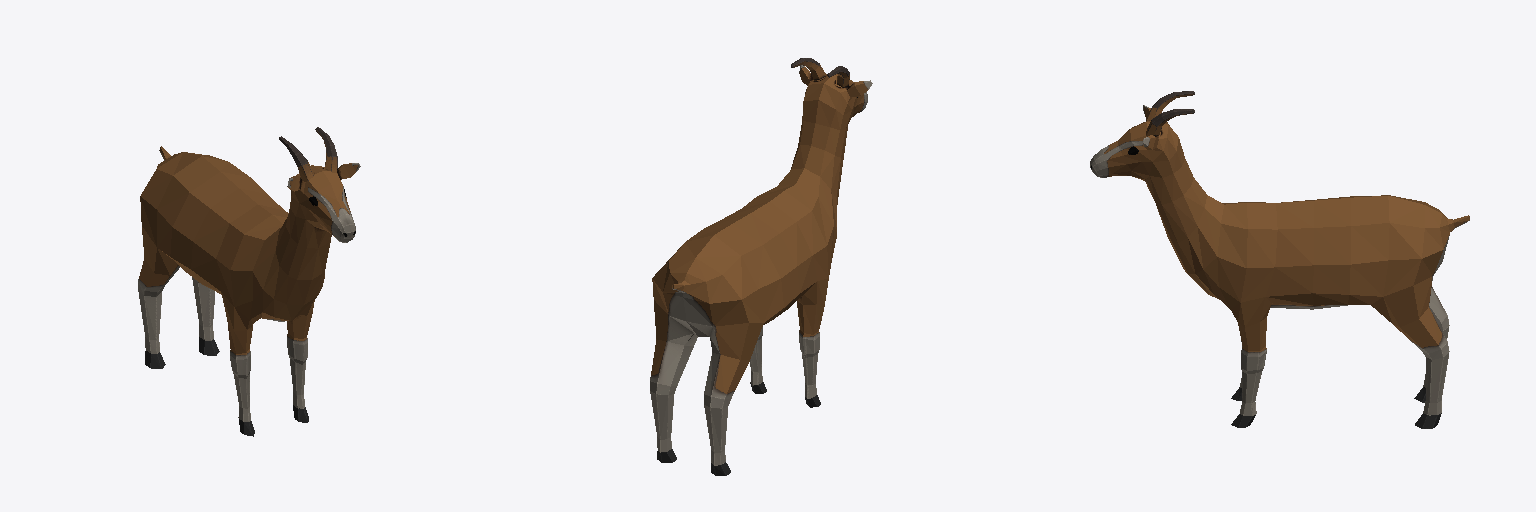
3 views of the same model, side by side, from view 1: azimuth 30°, elevation 25°; view 2: azimuth 150°, elevation 25°; view 3: azimuth 270°, elevation 25° (orthographic).
Visible parts, largest first — view 1: Goat_mesh; view 2: Goat_mesh; view 3: Goat_mesh.
Part boxes in pixels (bbox=[...]): Goat_mesh: bbox=[138, 127, 360, 436]; Goat_mesh: bbox=[650, 58, 872, 475]; Goat_mesh: bbox=[1090, 91, 1469, 428].
Size of the model in its own units: 2.26 by 6.6 by 7.31.
1 materials, 1 textured.